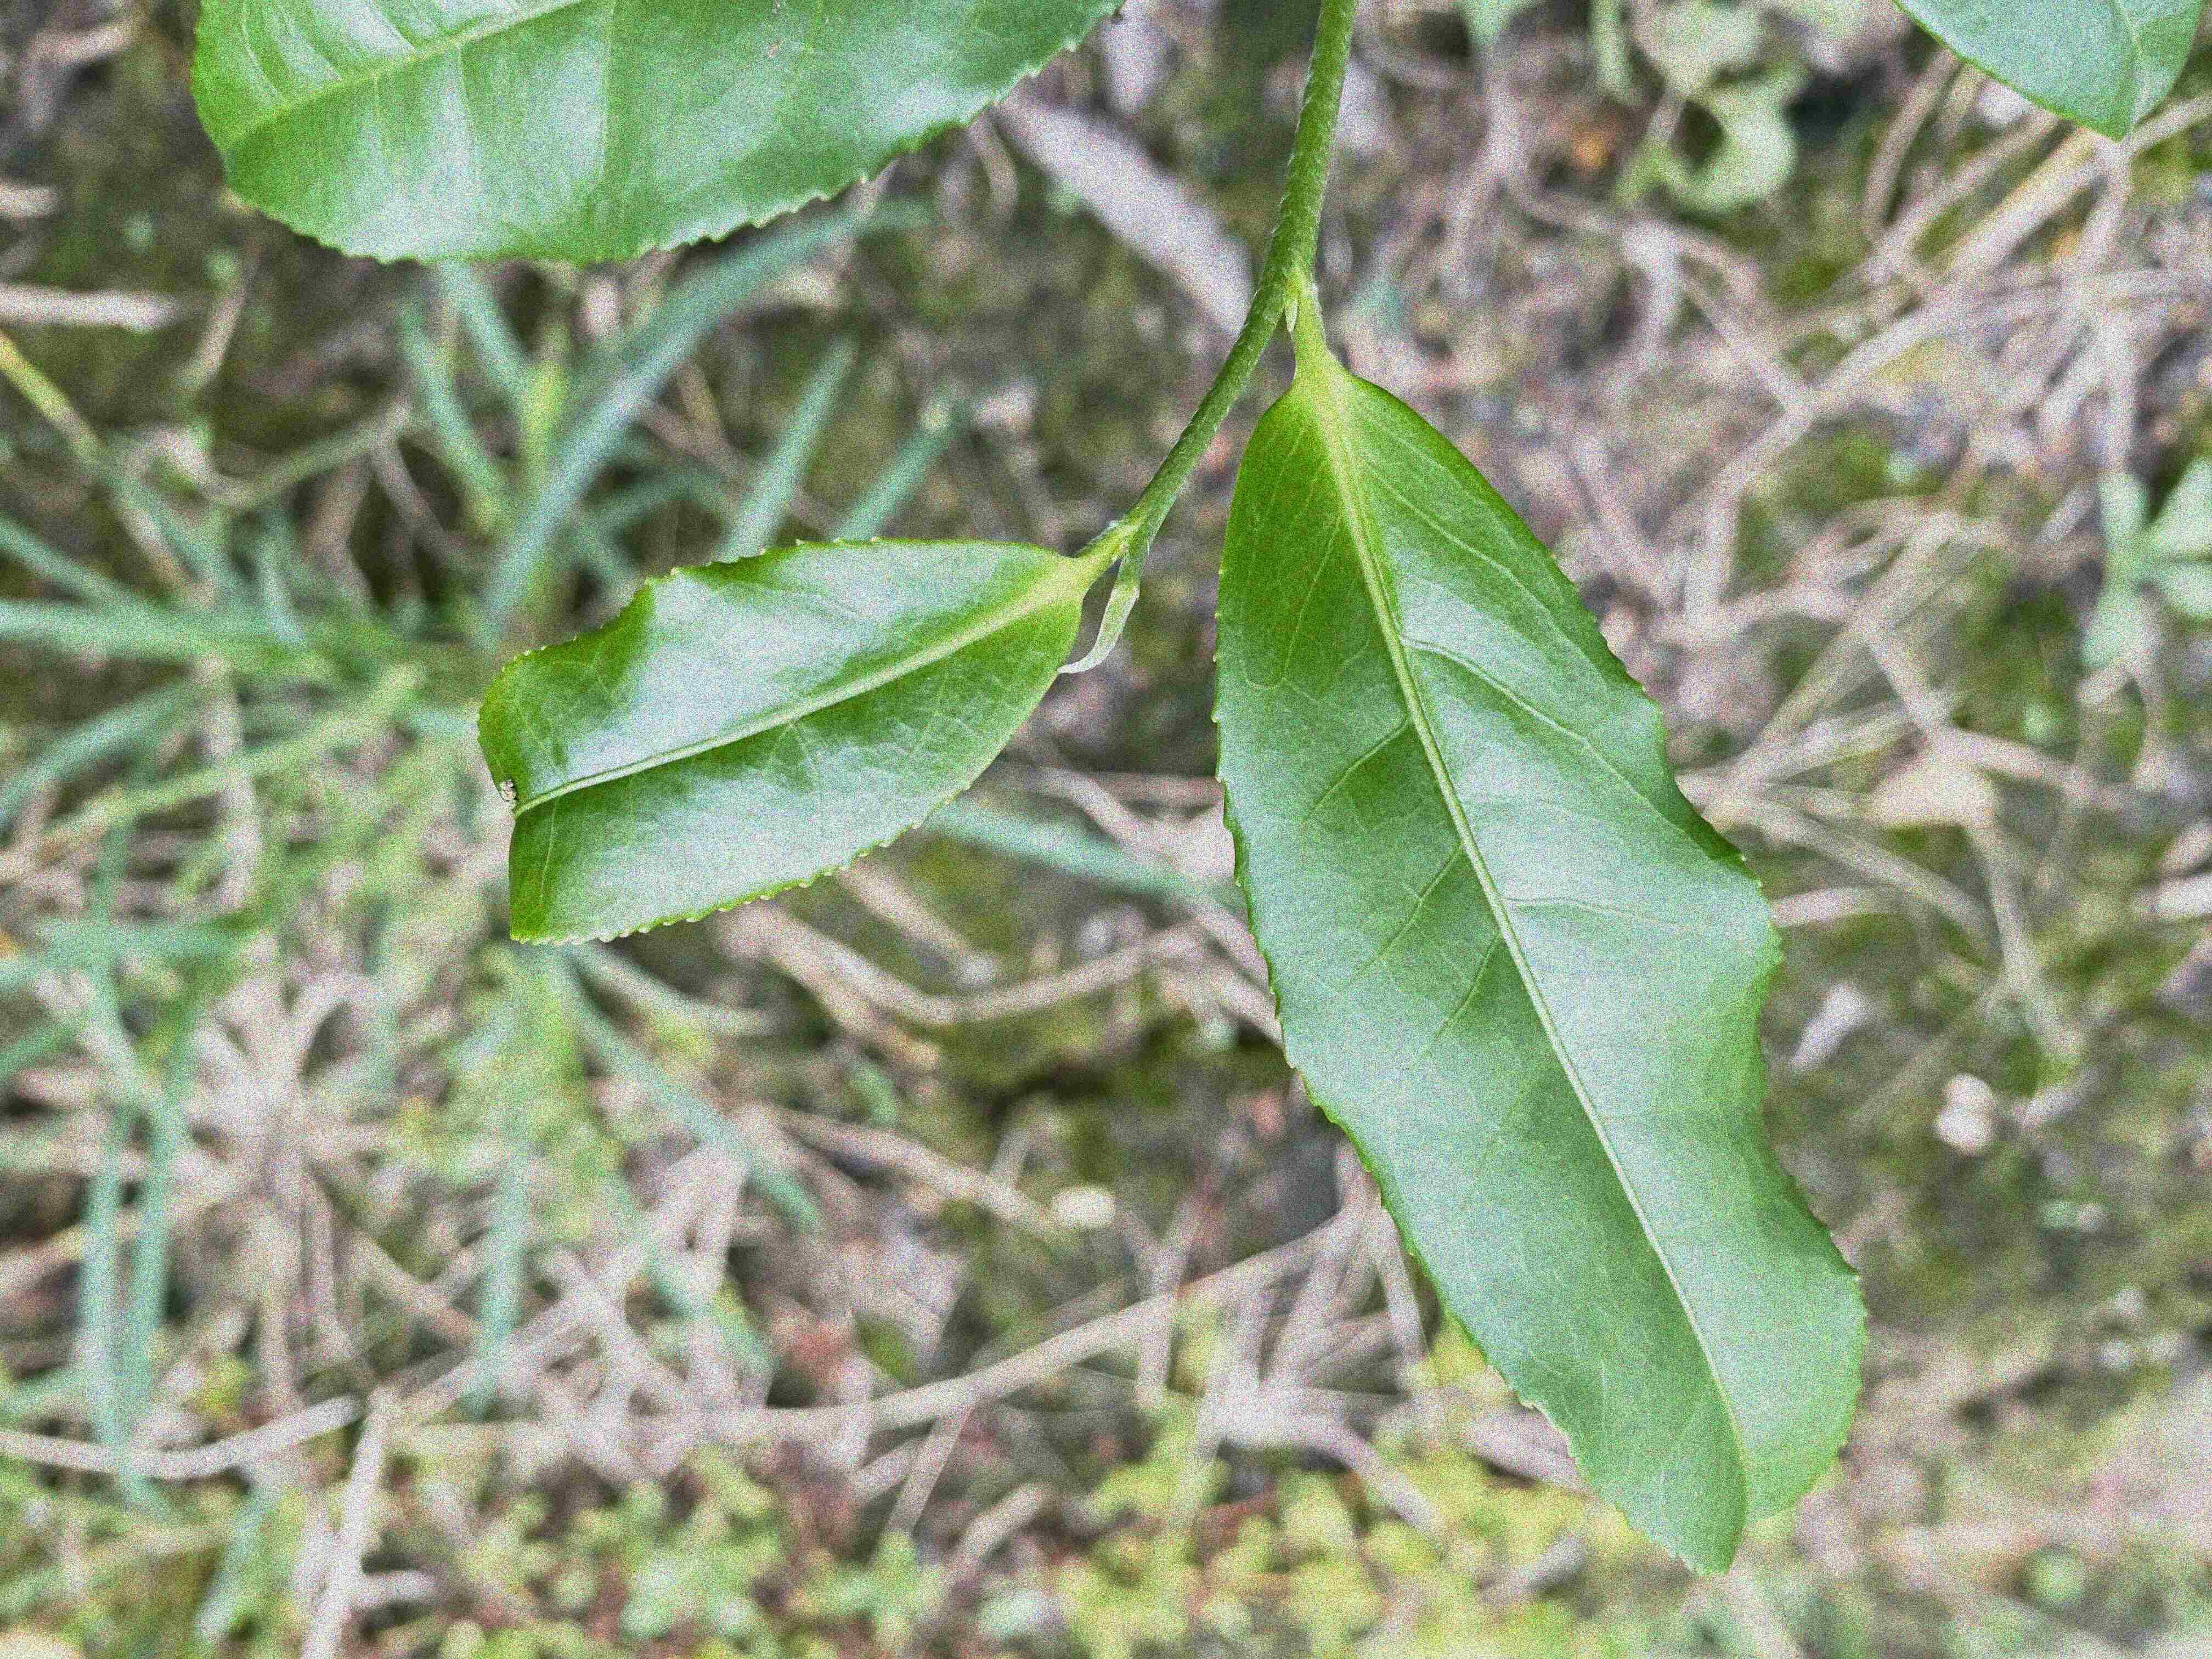healthy: (1205, 356, 1872, 1577), (185, 0, 1130, 268), (475, 535, 1083, 948)
